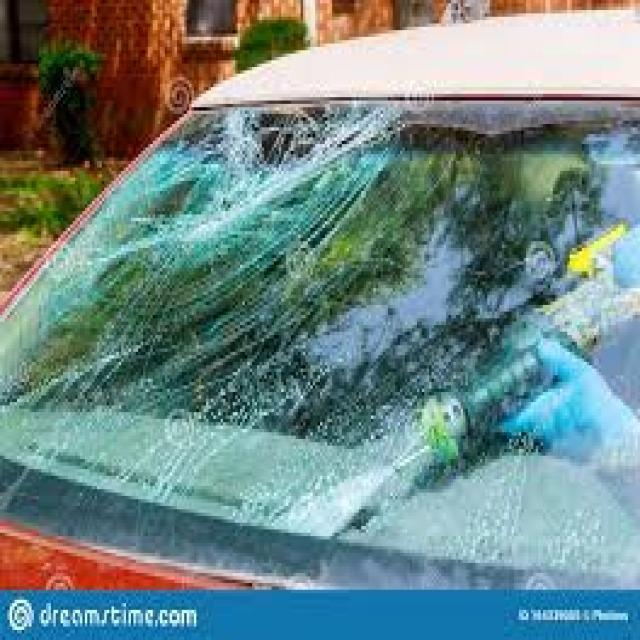damaged-windscreen: (0, 78, 633, 588)
